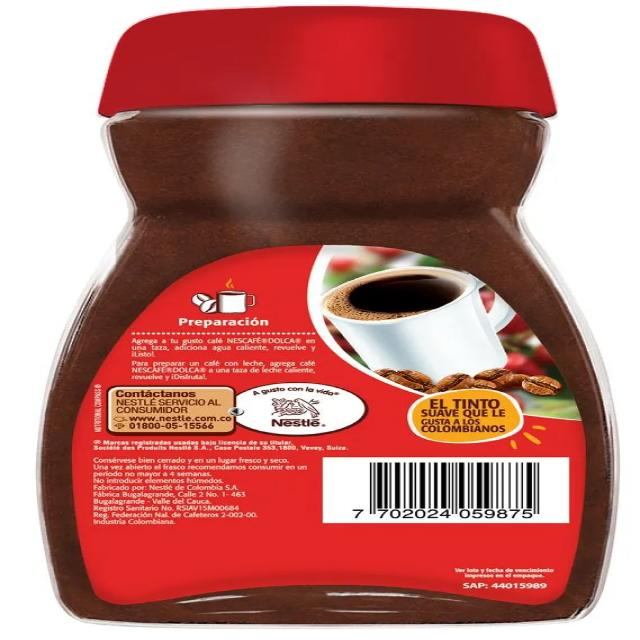Codigo_barras: (320, 457, 574, 527)
